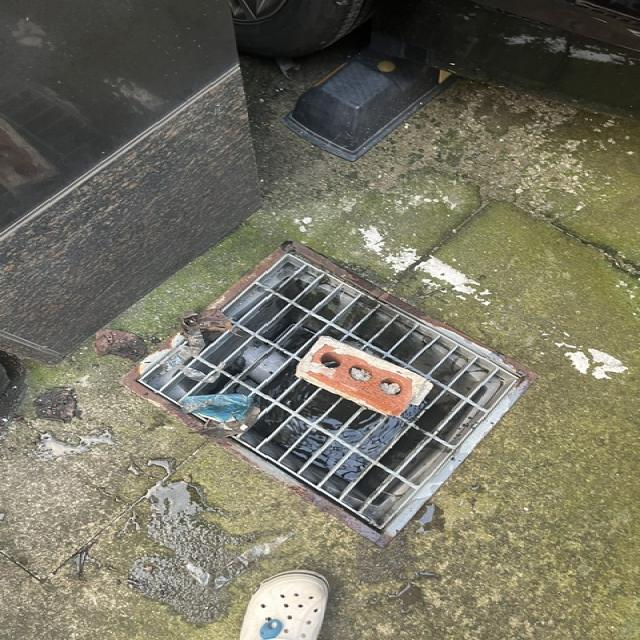drain_area: (138, 255, 521, 533)
drain_full: (139, 254, 523, 532)
